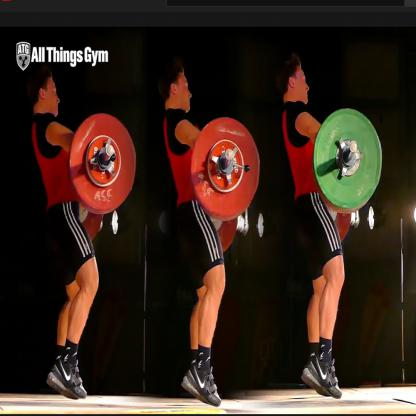Barbell: (64, 106, 142, 217), (185, 114, 264, 222), (310, 107, 385, 211)
